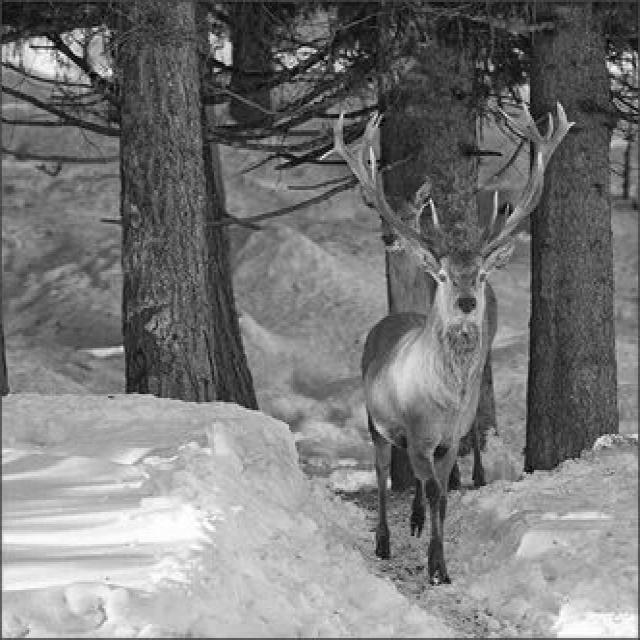Deer: (216, 110, 600, 507)
